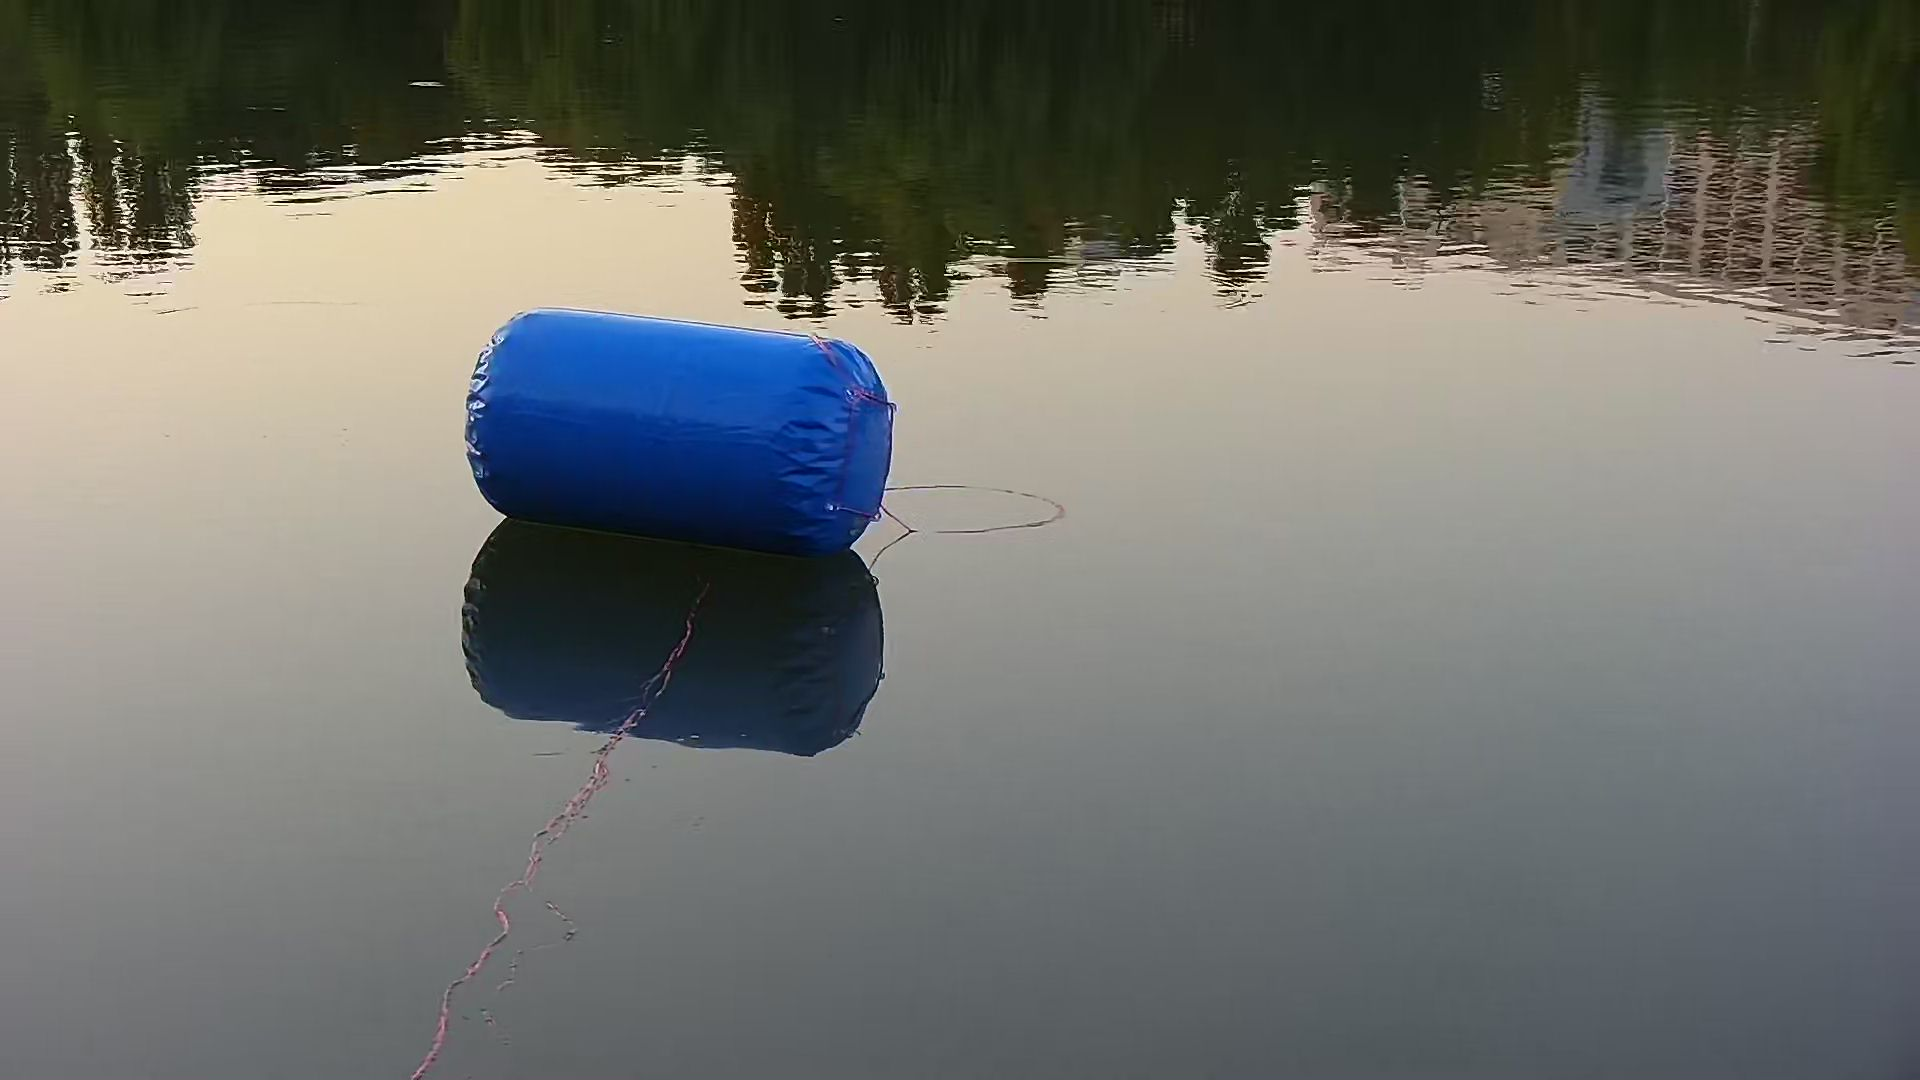rubbish: (452, 297, 902, 578)
